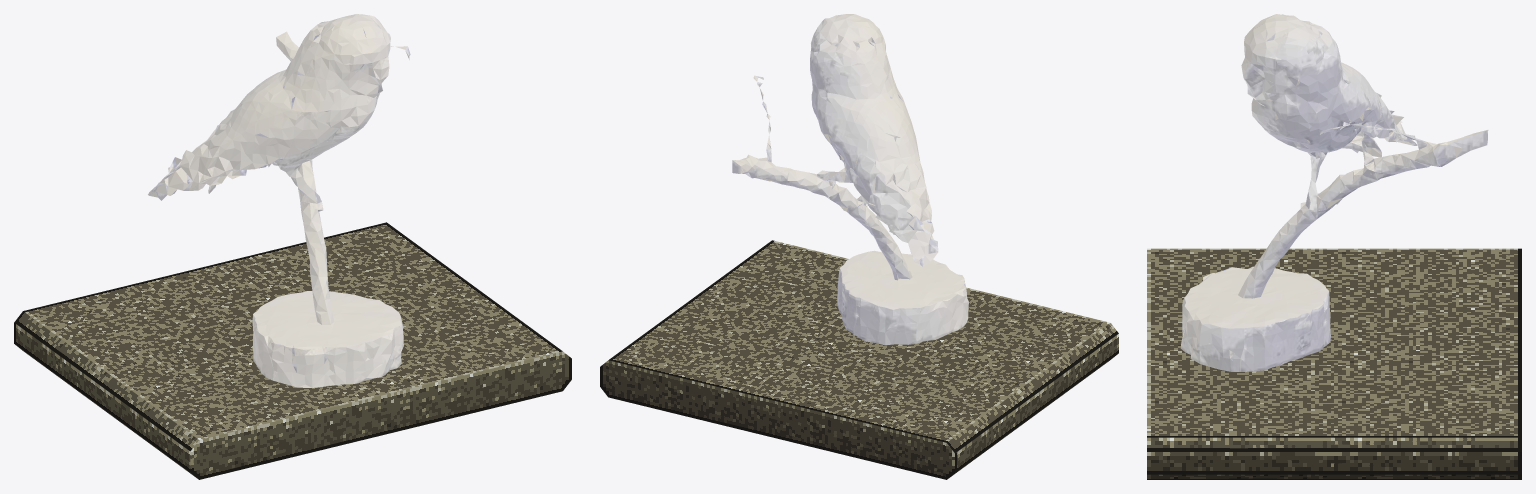
Rendered from menfukuro.glb.
3 renders of one model, left to right at view 1: azimuth 30°, elevation 25°; view 2: azimuth 150°, elevation 25°; view 3: azimuth 270°, elevation 25°, orthographic. The views are drawn at different scales.
Parts seen in each view (by area): view 1: base, model_bird; view 2: base, model_bird; view 3: base, model_bird.
Part boxes in pixels (x1,y1,x2,y2): base: [14, 222, 571, 479]; model_bird: [148, 14, 410, 387]; base: [600, 240, 1118, 479]; model_bird: [732, 14, 968, 345]; base: [1147, 248, 1521, 479]; model_bird: [1180, 14, 1488, 371].
Size of the model in its own units: 30 by 27.12 by 24.
Materials: 2 (2 with a texture image).
